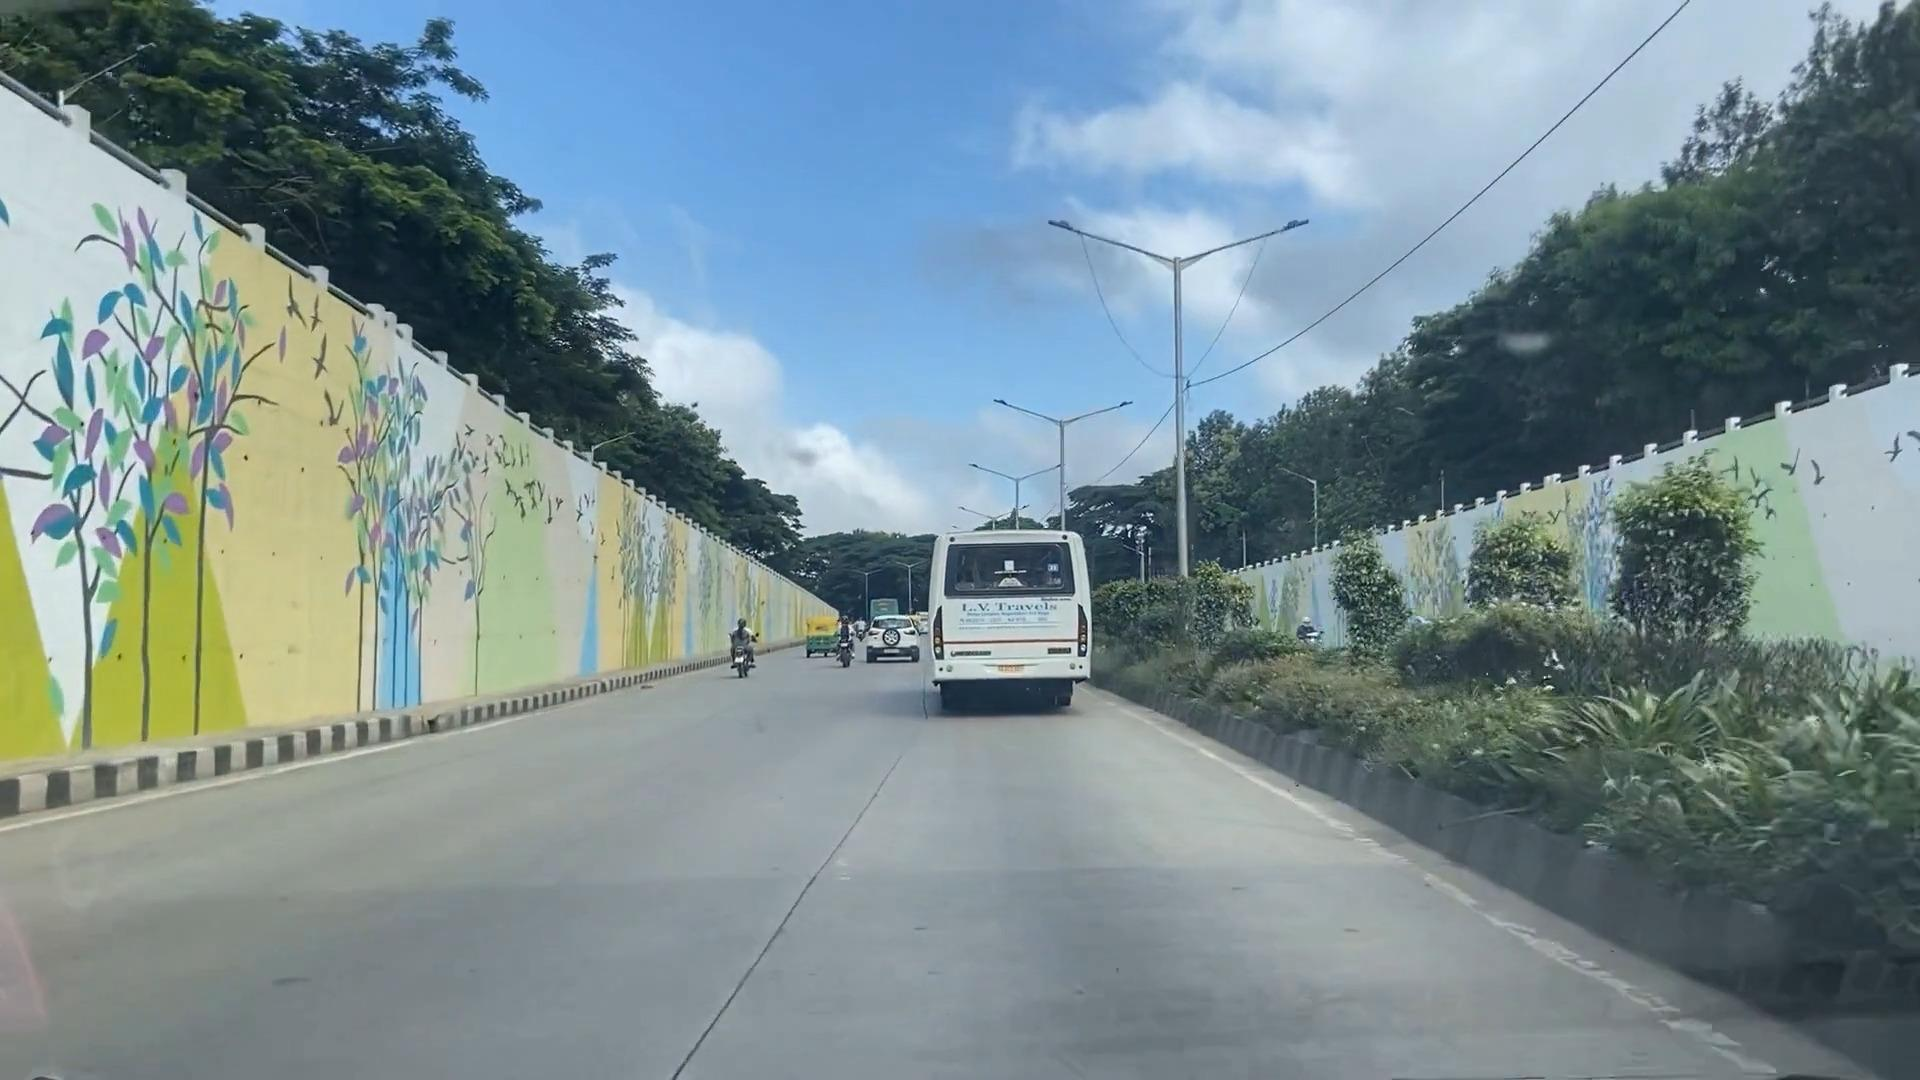HMV: (927, 531, 1096, 713)
